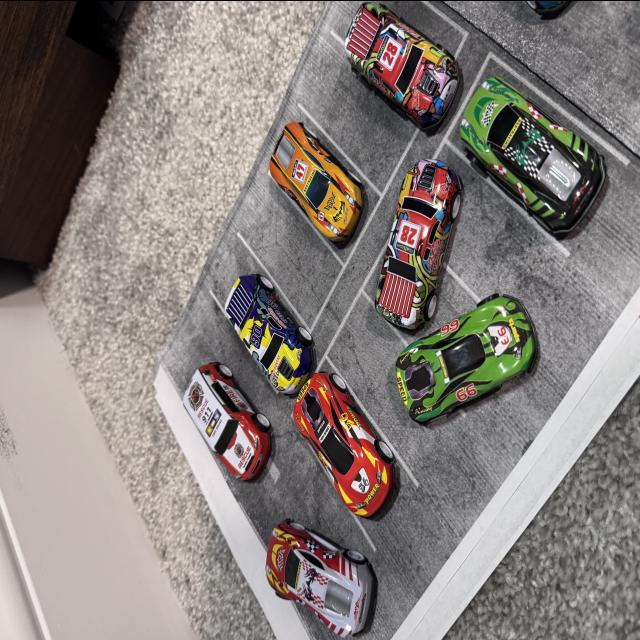Car: (454, 38, 628, 205), (400, 282, 568, 438), (366, 110, 476, 332), (278, 352, 404, 528), (234, 124, 370, 274), (245, 512, 392, 640), (324, 0, 472, 124), (186, 379, 272, 535), (214, 274, 306, 382), (506, 0, 622, 37)
